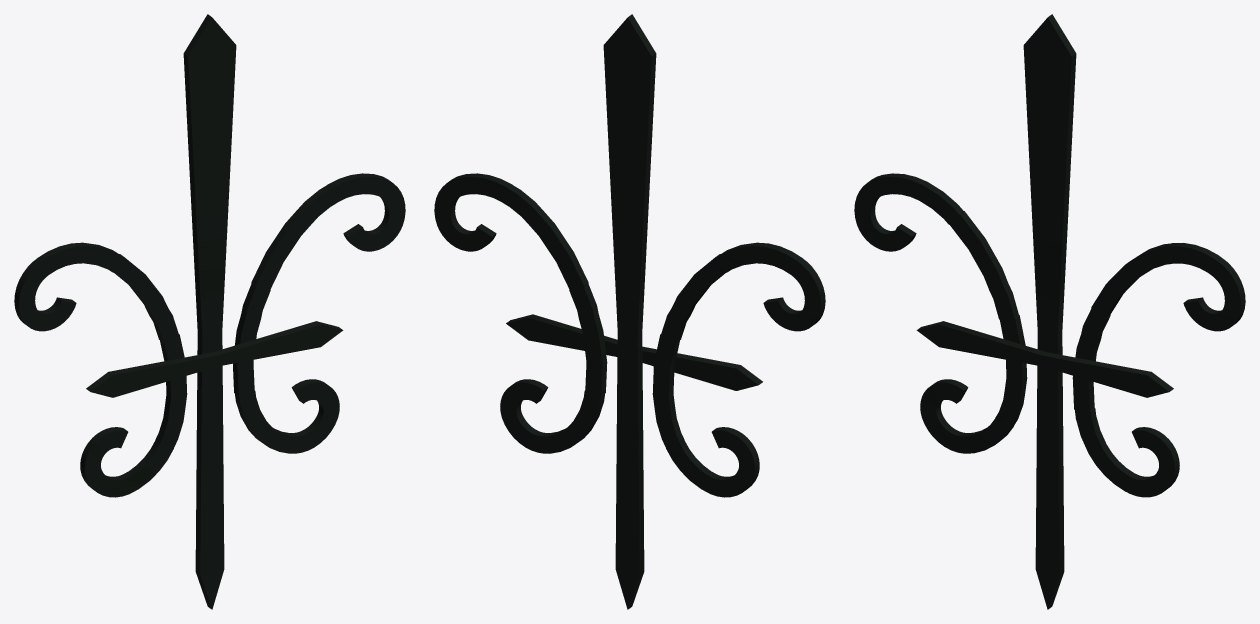
Rendered from SM_Symbol_1.fbx.
The picture shows the model from 3 angles, left to right: view 1: azimuth 30°, elevation 25°; view 2: azimuth 150°, elevation 25°; view 3: azimuth 330°, elevation 25°; orthographic projection.
Visible parts, largest first — view 1: GDLM839_GDLM972_mGDLM241_Laye.010; view 2: GDLM839_GDLM972_mGDLM241_Laye.010; view 3: GDLM839_GDLM972_mGDLM241_Laye.010.
Part boxes in pixels (box(x1,y1,x2,y2)): GDLM839_GDLM972_mGDLM241_Laye.010: box(14, 14, 405, 609); GDLM839_GDLM972_mGDLM241_Laye.010: box(434, 14, 825, 609); GDLM839_GDLM972_mGDLM241_Laye.010: box(854, 14, 1245, 609).
Size of the model in its own units: 0.4813 by 0.705 by 0.02.
1 material, 1 textured.
